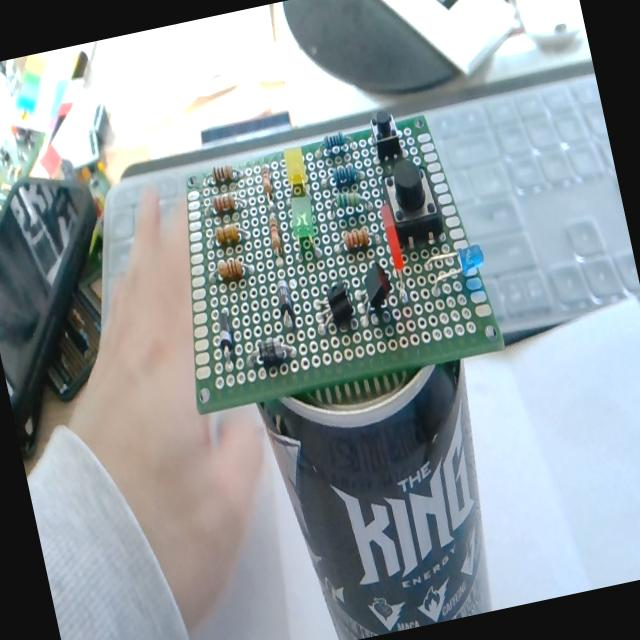diode: (246, 332, 298, 371), (212, 310, 238, 362), (272, 276, 297, 329)
led: (420, 240, 492, 294), (379, 204, 414, 306), (286, 190, 324, 262), (276, 142, 312, 192)
resistor: (311, 130, 356, 164), (216, 255, 245, 282), (329, 162, 359, 188), (266, 213, 284, 256), (341, 225, 370, 251), (214, 222, 242, 247), (334, 188, 364, 210), (258, 163, 276, 199), (210, 162, 238, 185), (321, 130, 347, 153), (211, 192, 237, 214)
switch: (379, 153, 445, 247), (368, 107, 403, 161)
transistor: (346, 256, 400, 326), (306, 276, 358, 333)
